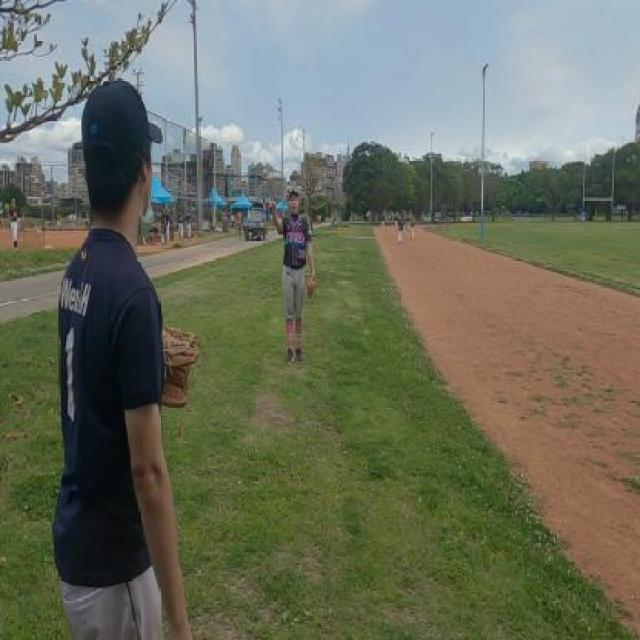baseball: (262, 168, 268, 178)
